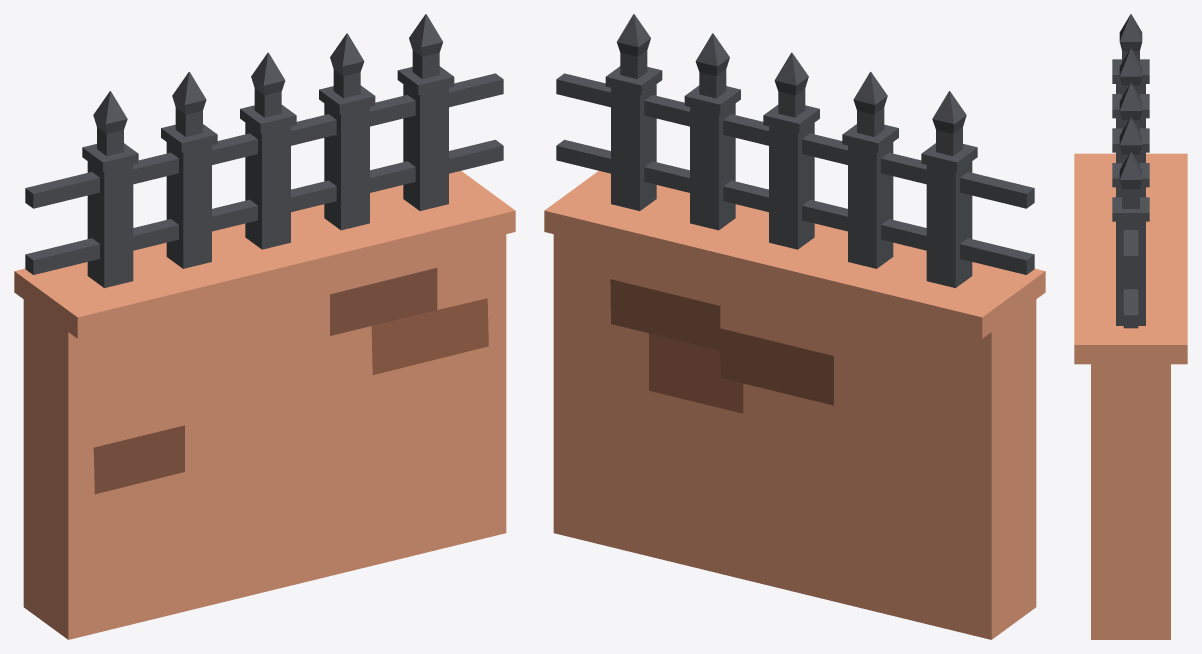
File: Building_Objects_Wall.fbx
3 renders of one model, left to right at view 1: azimuth 30°, elevation 25°; view 2: azimuth 150°, elevation 25°; view 3: azimuth 270°, elevation 25°, orthographic. The views are drawn at different scales.
Parts seen in each view (by area): view 1: Building_Objects_Wall; view 2: Building_Objects_Wall; view 3: Building_Objects_Wall.
Boxes of the visible parts, left/top/right/bottom form: Building_Objects_Wall: left=14, top=14, right=515, bottom=639; Building_Objects_Wall: left=544, top=14, right=1045, bottom=639; Building_Objects_Wall: left=1074, top=14, right=1187, bottom=639.
Bounding box in the file's own units: 241 × 253 × 56.11.
